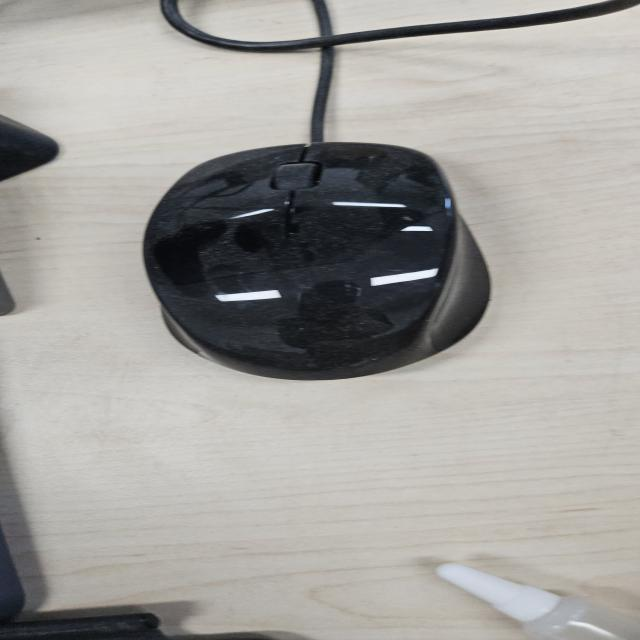Mouse: (139, 140, 495, 381)
